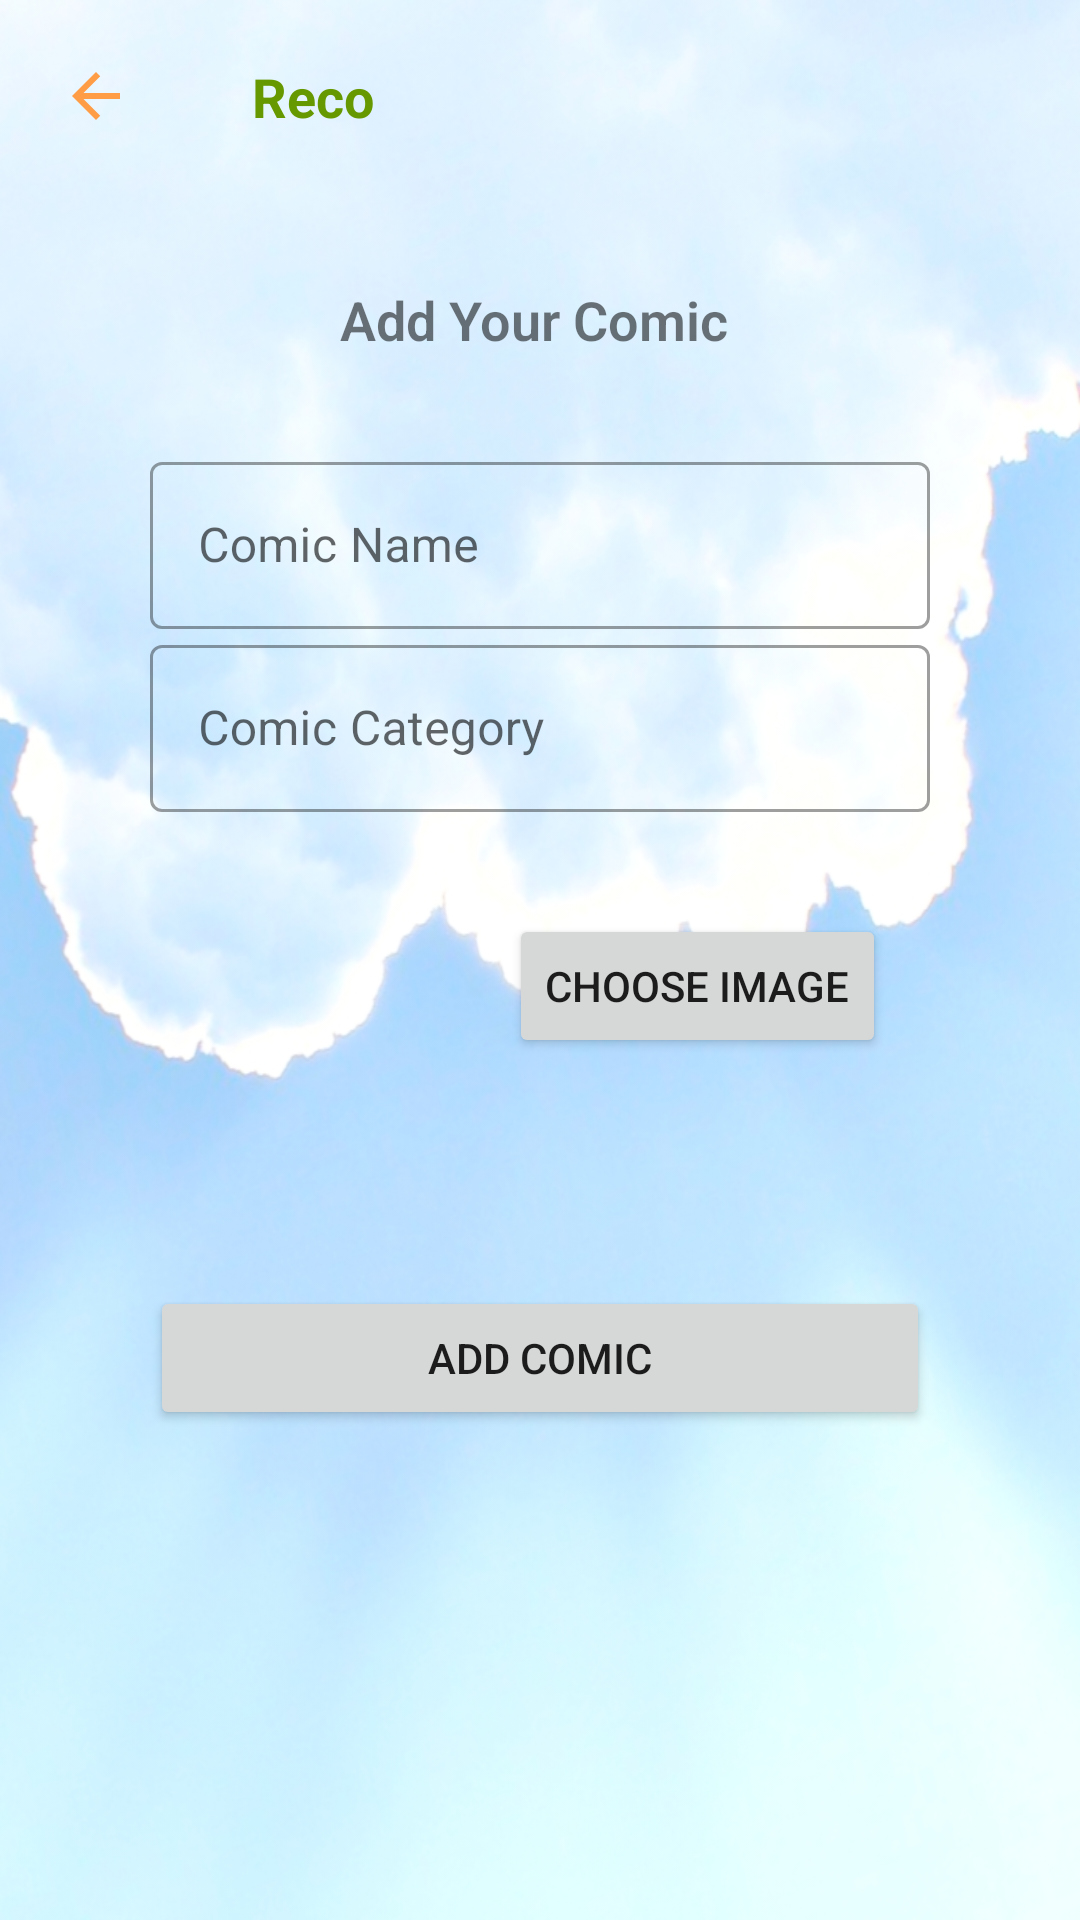

Icon click points for this 1080 × 1920 phone screenshot, format point (x, y):
back: point (96, 96)
